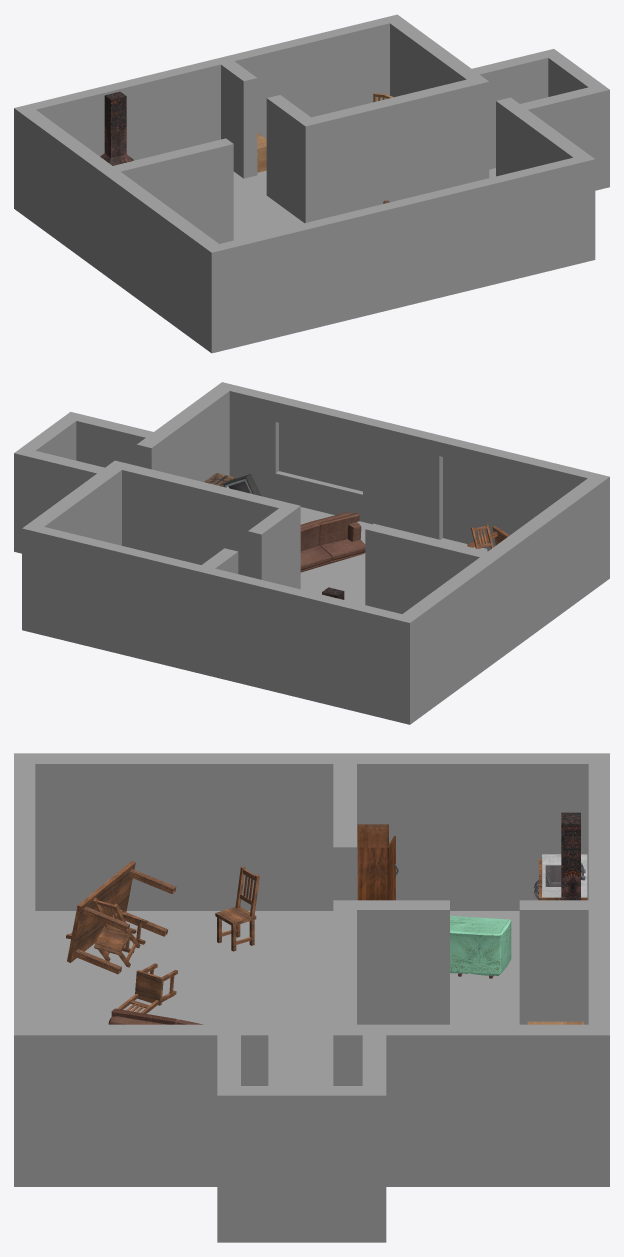
File: H4_Int_Damaged.fbx
3 renders of one model, top to bottom at view 1: azimuth 30°, elevation 25°; view 2: azimuth 150°, elevation 25°; view 3: azimuth 270°, elevation 25°, orthographic. The views are drawn at different scales.
Visible parts, largest first — view 1: Wall8, Wall2, Oven2; view 2: Wall8, Wall2, Couch_6; view 3: Wall8, Table4, Fidge4, Wall2, Closet6, Chair12, Oven2, KItchen_Sink_5, Chair19, Chair17, Couch_6.
Part boxes in pixels (x1,y1,x2,y2): Wall8: (14, 14, 609, 353); Wall2: (113, 138, 233, 243); Oven2: (100, 91, 133, 165); Wall8: (14, 382, 609, 724); Wall2: (365, 523, 487, 613); Couch_6: (300, 512, 365, 572); Wall8: (14, 753, 609, 1242); Table4: (67, 861, 176, 974); Fidge4: (450, 915, 511, 978); Wall2: (333, 764, 356, 900); Closet6: (357, 824, 398, 900); Chair12: (215, 866, 259, 951); Oven2: (561, 812, 580, 900); KItchen_Sink_5: (534, 854, 587, 900); Chair19: (117, 963, 177, 1013); Chair17: (93, 898, 140, 967); Couch_6: (108, 1008, 203, 1024).
Size of the model in its own units: 41.12 by 8.52 by 30.23.
